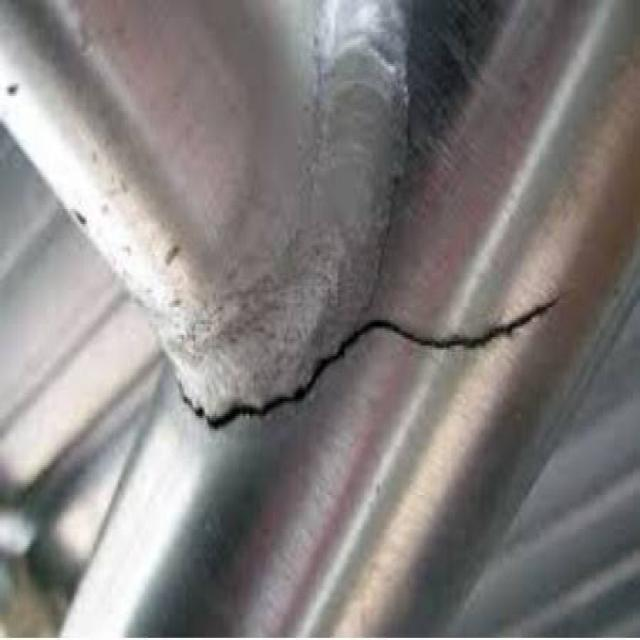Dry Waste: (104, 203, 640, 501)
